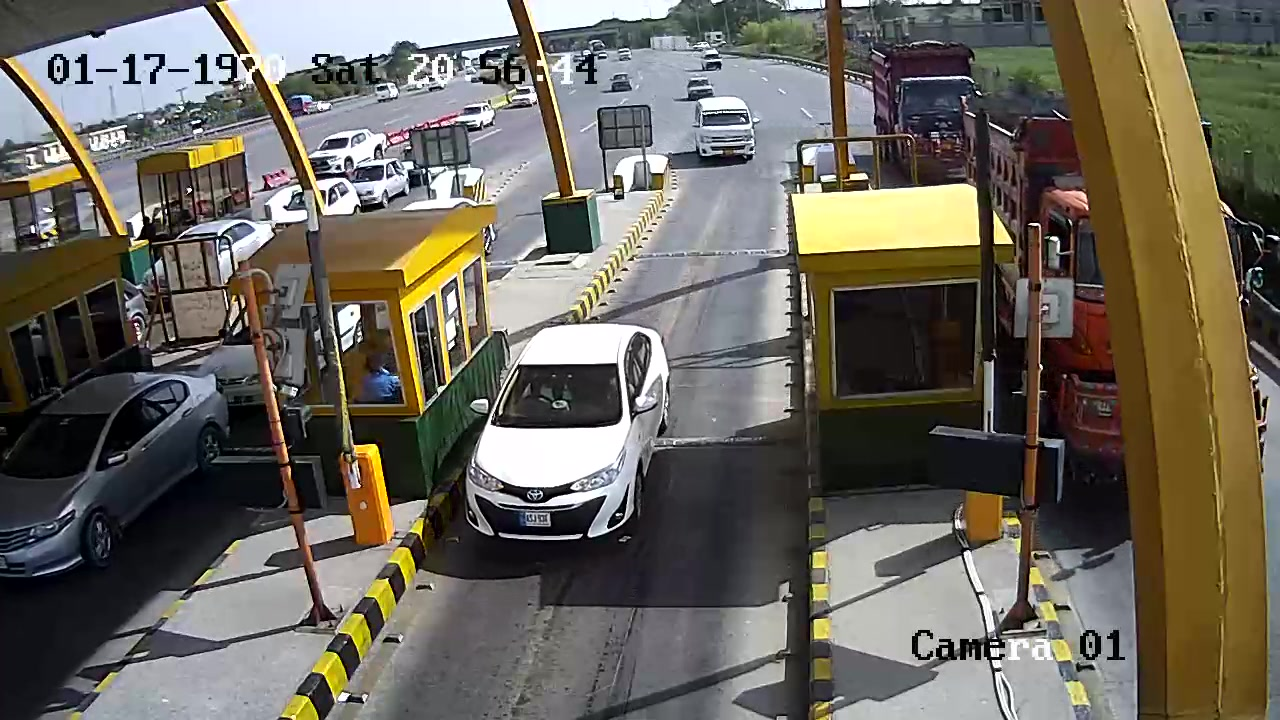F1: (465, 315, 686, 615)
